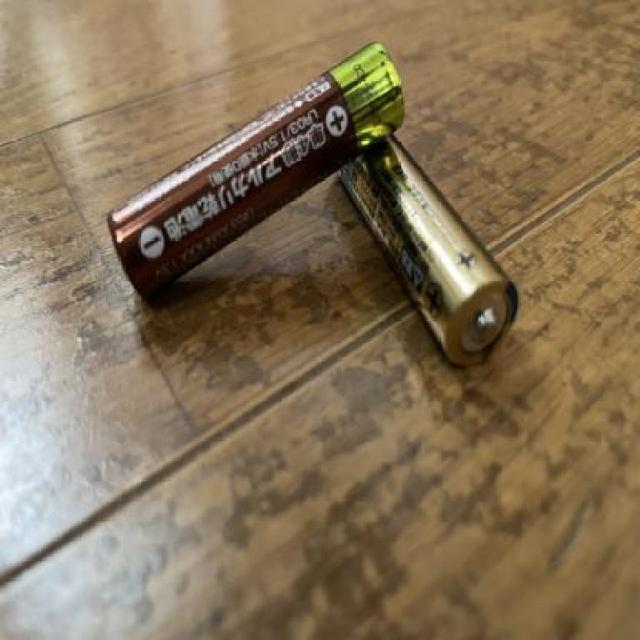AA: (105, 39, 410, 304), (339, 114, 524, 376)
